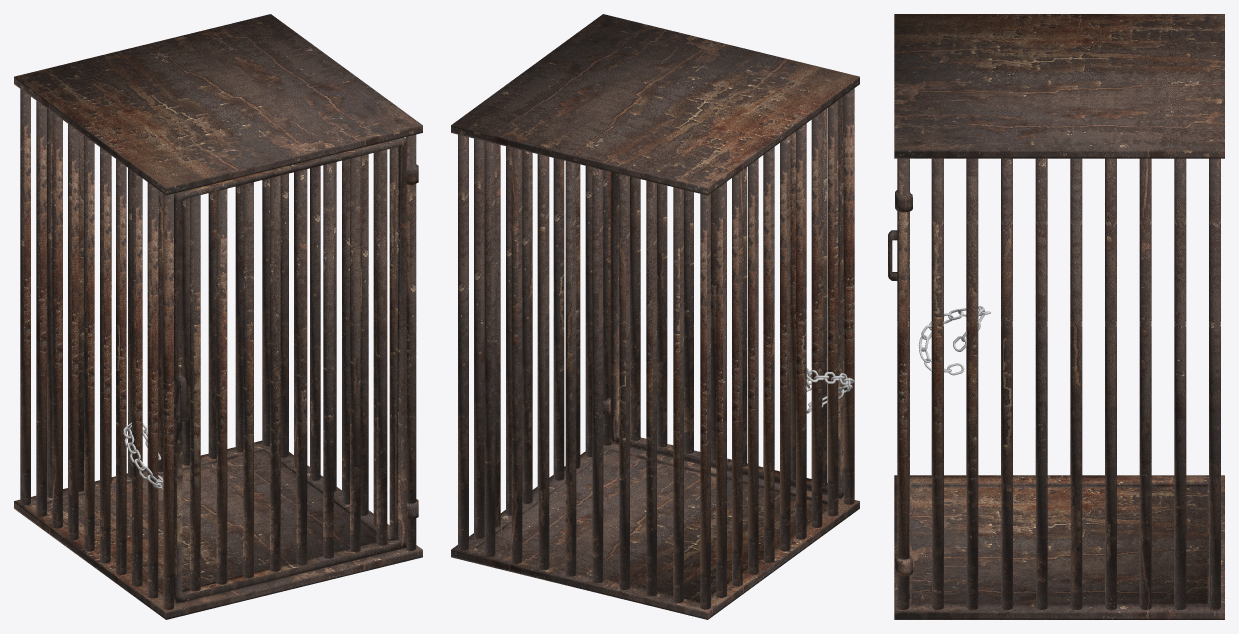
File: SmallCell.fbx
3 views of the same model, side by side, from view 1: azimuth 30°, elevation 25°; view 2: azimuth 150°, elevation 25°; view 3: azimuth 270°, elevation 25° (orthographic). The views are drawn at different scales.
Visible parts, largest first — view 1: Cell, Cell Door; view 2: Cell, Cell Door; view 3: Cell, Cell Door.
Boxes of the visible parts, x1,y1,x2,y2 form: Cell: (14, 14, 422, 619); Cell Door: (174, 137, 418, 603); Cell: (451, 14, 859, 619); Cell Door: (603, 96, 843, 498); Cell: (894, 14, 1224, 619); Cell Door: (888, 158, 912, 598).
Bounding box in the file's own units: 227 × 348 × 226.
